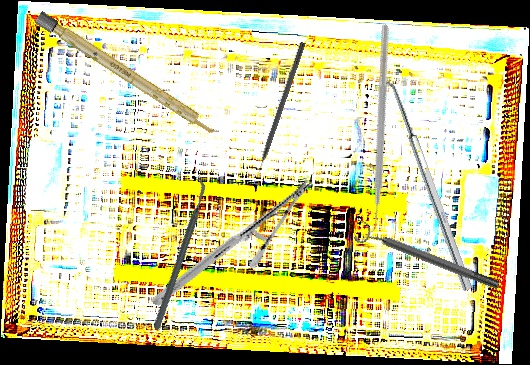Chopper: (274, 22, 474, 243), (102, 174, 256, 333)
Fixation Ring: (353, 218, 502, 298)
Hook Surgical: (252, 41, 306, 180)
Needle Holder: (150, 142, 314, 343)
Scalpel Handle: (34, 10, 222, 140)
Spatula Surgical: (377, 74, 473, 295)
